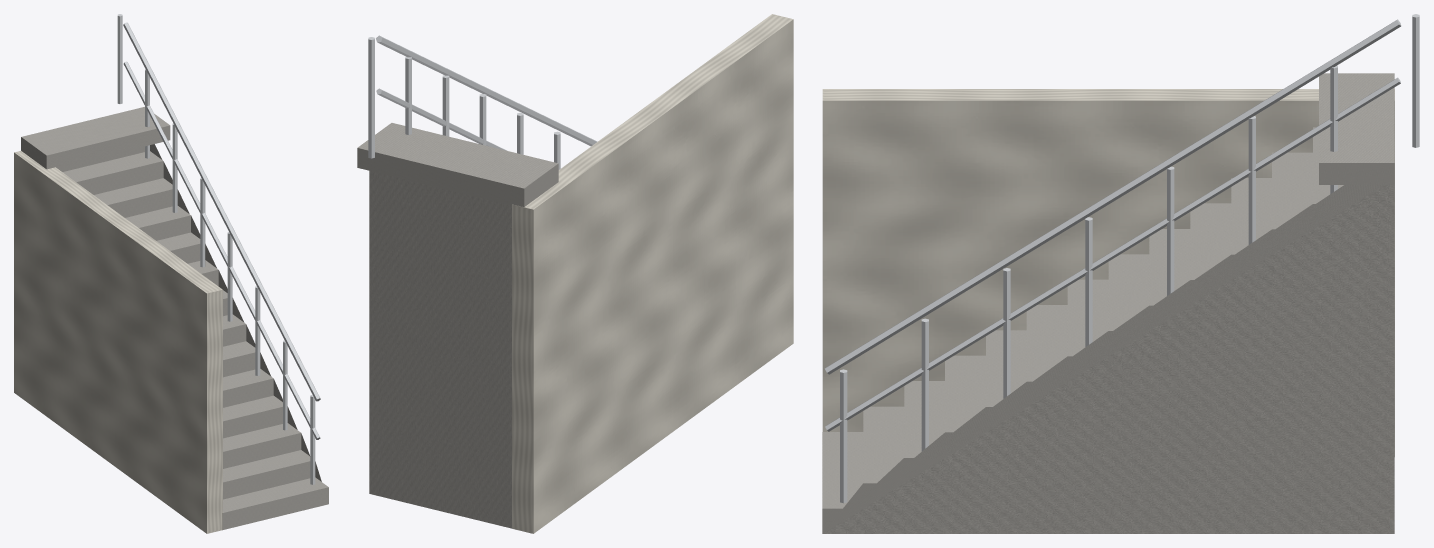
Rendered from external-stairs.glb.
The picture shows the model from 3 angles, left to right: view 1: azimuth 30°, elevation 25°; view 2: azimuth 150°, elevation 25°; view 3: azimuth 270°, elevation 25°; orthographic projection. The views are drawn at different scales.
Parts seen in each view (by area): view 1: external-staircase-plaster, external-staircase-stone, external-staircase-steel; view 2: external-staircase-plaster, external-staircase-stone, external-staircase-steel; view 3: external-staircase-stone, external-staircase-plaster, external-staircase-steel.
Part boxes in pixels (<box>): external-staircase-plaster: <box>14,151,222,533</box>; external-staircase-stone: <box>21,107,328,529</box>; external-staircase-steel: <box>117,14,320,484</box>; external-staircase-plaster: <box>512,14,793,533</box>; external-staircase-stone: <box>357,123,558,528</box>; external-staircase-steel: <box>368,35,597,169</box>; external-staircase-stone: <box>822,73,1394,533</box>; external-staircase-plaster: <box>822,89,1394,456</box>; external-staircase-steel: <box>825,14,1419,503</box>.
Size of the model in its own units: 1.48 by 3.73 by 3.94.
Materials: 3 (2 with a texture image).
